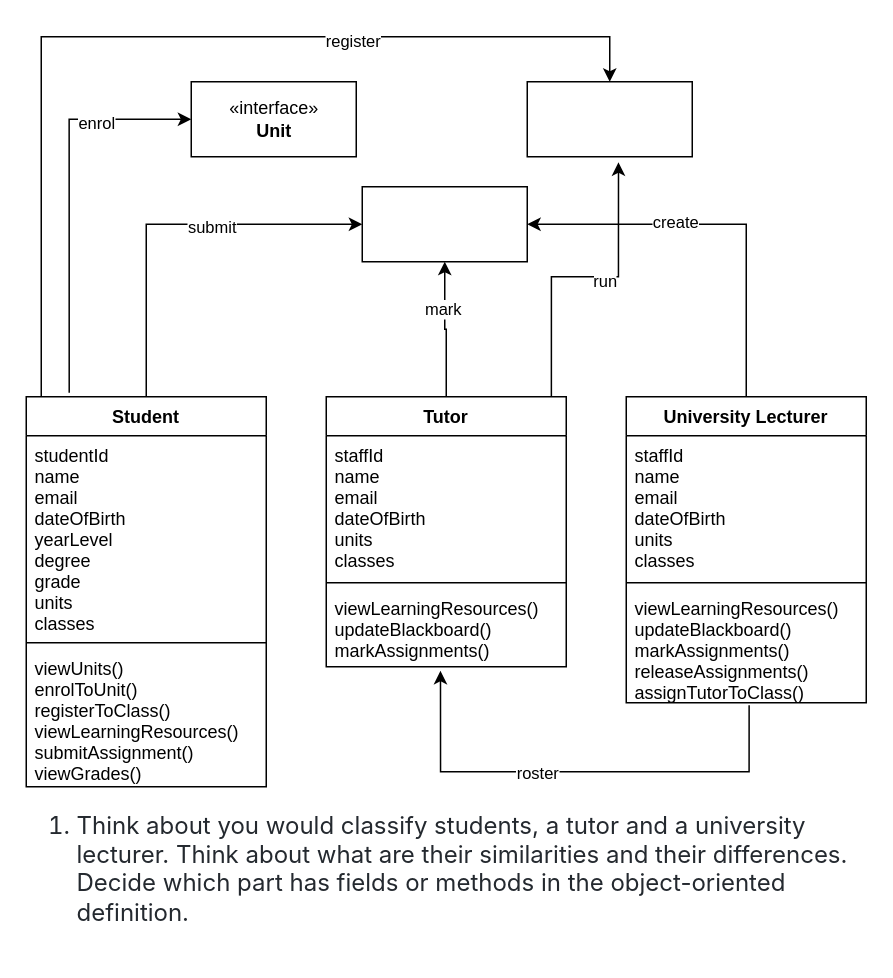
This 893x978 diagram has some shape labels left out. The shapes that lost their labels are listed below. From the top down, each one's centre as x and y in pixels, then its label:
At point 609,118: "«interface» Class".
At point 444,223: "«interface» Assignment".
